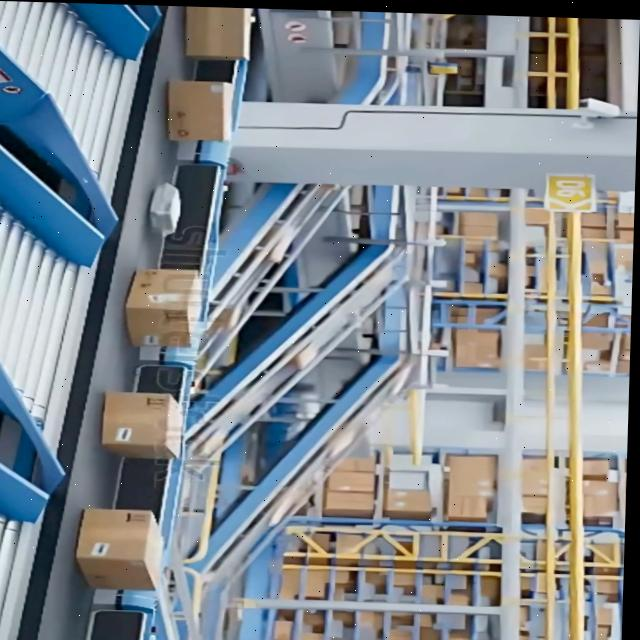product 1: (123, 266, 204, 348), (101, 390, 185, 458), (166, 87, 235, 141)
product 2: (148, 181, 184, 236)
